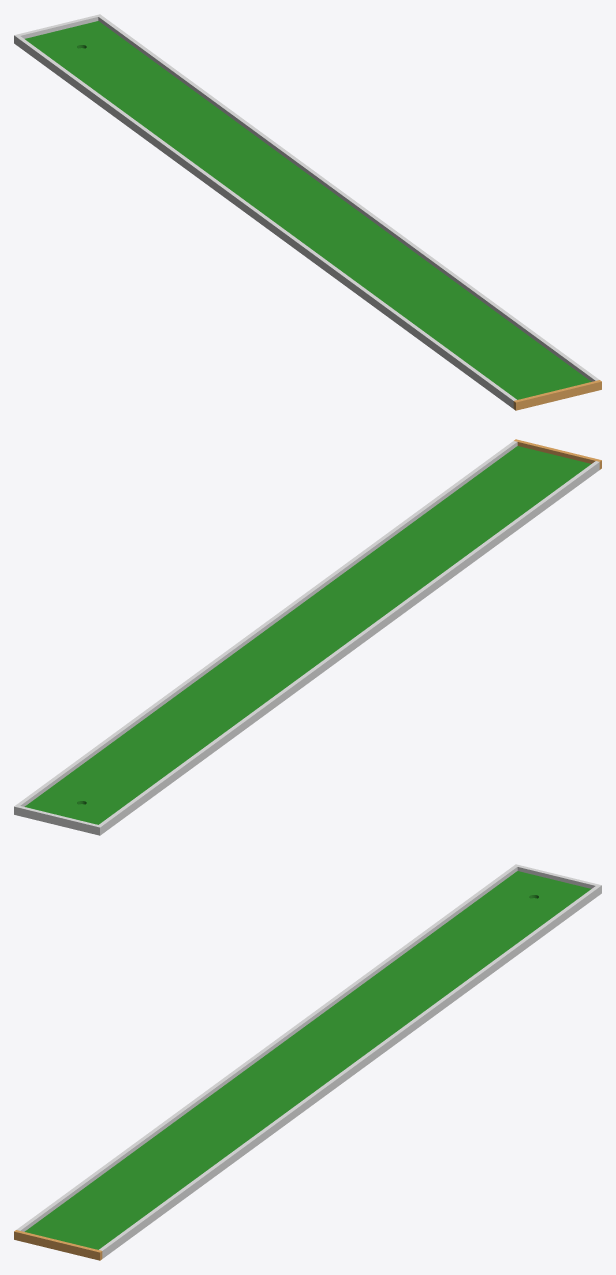
The model's file is lane.gltf.
3 renders of one model, top to bottom at view 1: azimuth 30°, elevation 25°; view 2: azimuth 150°, elevation 25°; view 3: azimuth 330°, elevation 25°, orthographic.
Visible parts, largest first — view 1: Cube.001, Cube, Cube.003, Cube.002, Cube.004; view 2: Cube.001, Cube, Cube.003, Cube.004, Cube.002; view 3: Cube.001, Cube.003, Cube, Cube.002, Cube.004.
Part boxes in pixels (box(x1,y1,x2,y2)): Cube.001: box(25, 21, 591, 399); Cube: box(16, 36, 516, 408); Cube.003: box(98, 16, 599, 381); Cube.002: box(513, 380, 601, 410); Cube.004: box(14, 14, 101, 44); Cube.001: box(24, 446, 590, 824); Cube: box(99, 461, 599, 833); Cube.003: box(16, 441, 517, 806); Cube.004: box(14, 805, 102, 835); Cube.002: box(514, 439, 601, 469); Cube.001: box(24, 871, 590, 1249); Cube.003: box(99, 886, 599, 1258); Cube: box(16, 866, 517, 1231); Cube.002: box(14, 1230, 102, 1260); Cube.004: box(514, 864, 601, 894).
Bounding box in the file's own units: 2.2 × 0.2 × 22.2.
